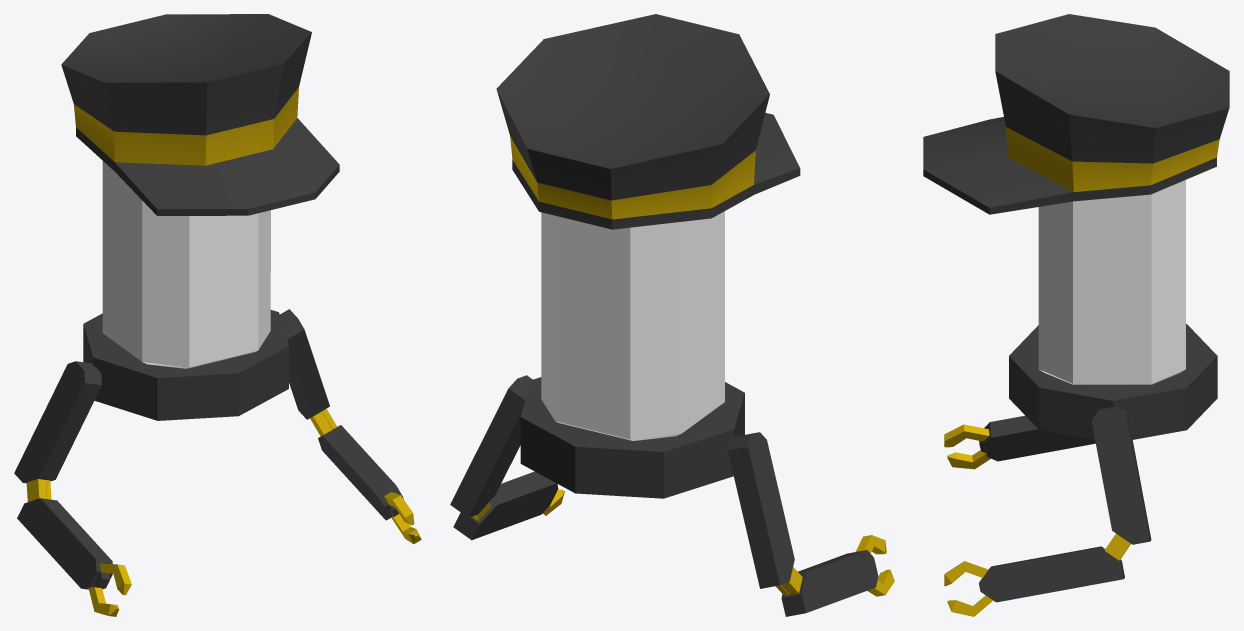
The model's file is robokunn.fbx.
The picture shows the model from 3 angles, left to right: view 1: azimuth 30°, elevation 25°; view 2: azimuth 150°, elevation 25°; view 3: azimuth 270°, elevation 25°; orthographic projection. The views are drawn at different scales.
Visible parts, largest first — view 1: polySurface11, polySurface10, ude, polySurface8; view 2: polySurface11, polySurface10, ude, polySurface8; view 3: polySurface11, polySurface10, ude, polySurface8.
Part boxes in pixels (<box>): polySurface11: <box>61,14,339,215</box>; polySurface10: <box>102,161,270,368</box>; ude: <box>14,309,421,616</box>; polySurface8: <box>83,310,288,420</box>; polySurface11: <box>496,14,800,229</box>; polySurface10: <box>541,211,724,440</box>; ude: <box>450,375,894,616</box>; polySurface8: <box>520,377,744,498</box>; polySurface11: <box>923,14,1229,214</box>; polySurface10: <box>1038,180,1185,384</box>; ude: <box>944,406,1151,616</box>; polySurface8: <box>1009,324,1217,439</box>.
Size of the model in its own units: 177 by 259 by 146.
